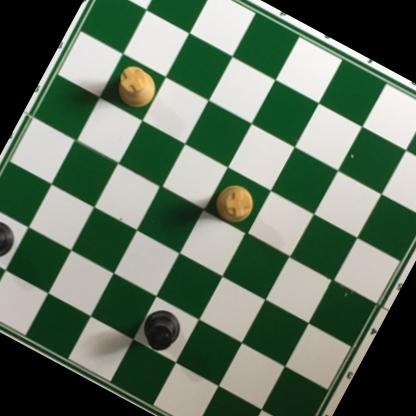black-rook: (134, 301, 189, 357), (0, 209, 24, 268)
white-rook: (109, 56, 165, 115), (204, 174, 261, 230)
